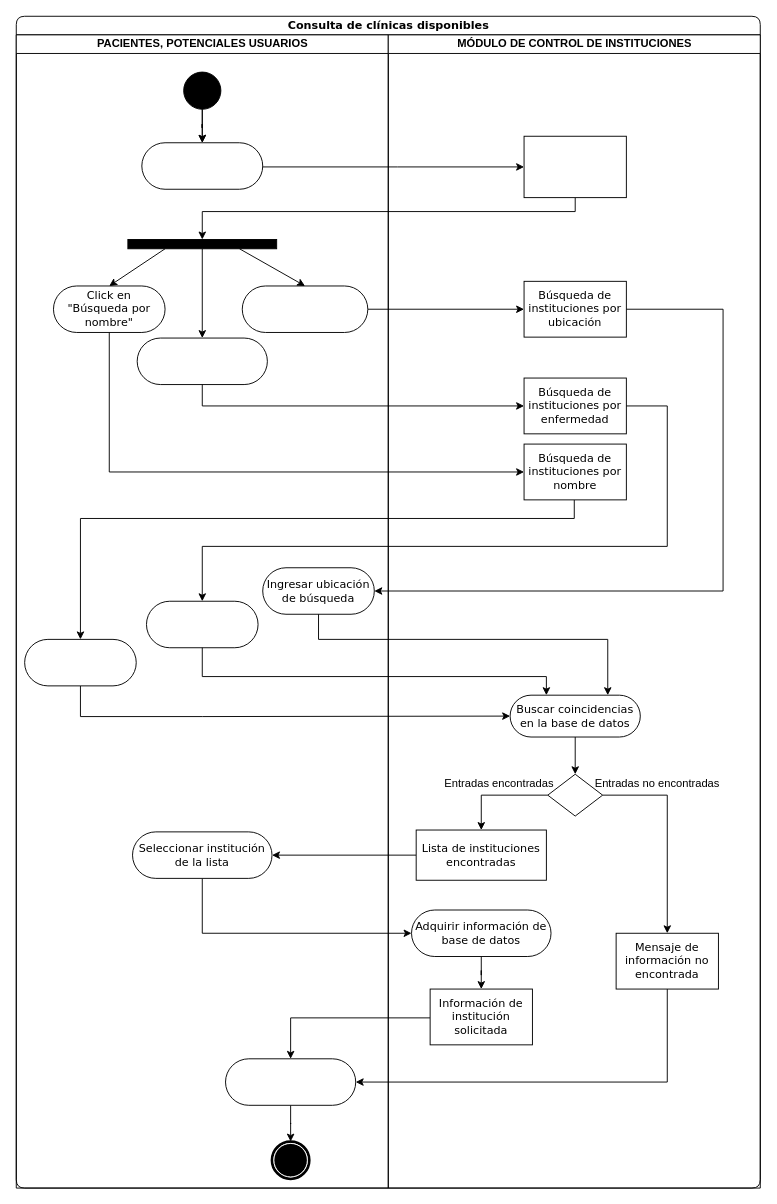
This 777x1204 diagram has some shape labels left out. The centre of each missing label's shape, as x and y in pixels:
Click en "Búsqueda por enfermedad": [201,361]
Click en "Búsqueda por ubicación geográfica": [304,308]
Click en "Consultar clínicas": [202,165]
Confirmación de mensaje: [290,1081]
Ingresar enfermedad: [202,624]
Ingresar nombre de institución: [80,662]
Ventana de selección búsqueda de instituciones: [574,166]
